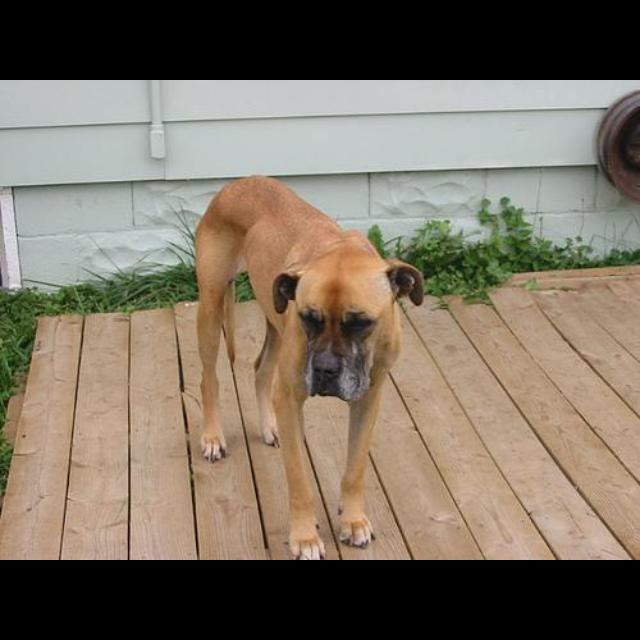bullmastiff: (193, 175, 425, 560)
